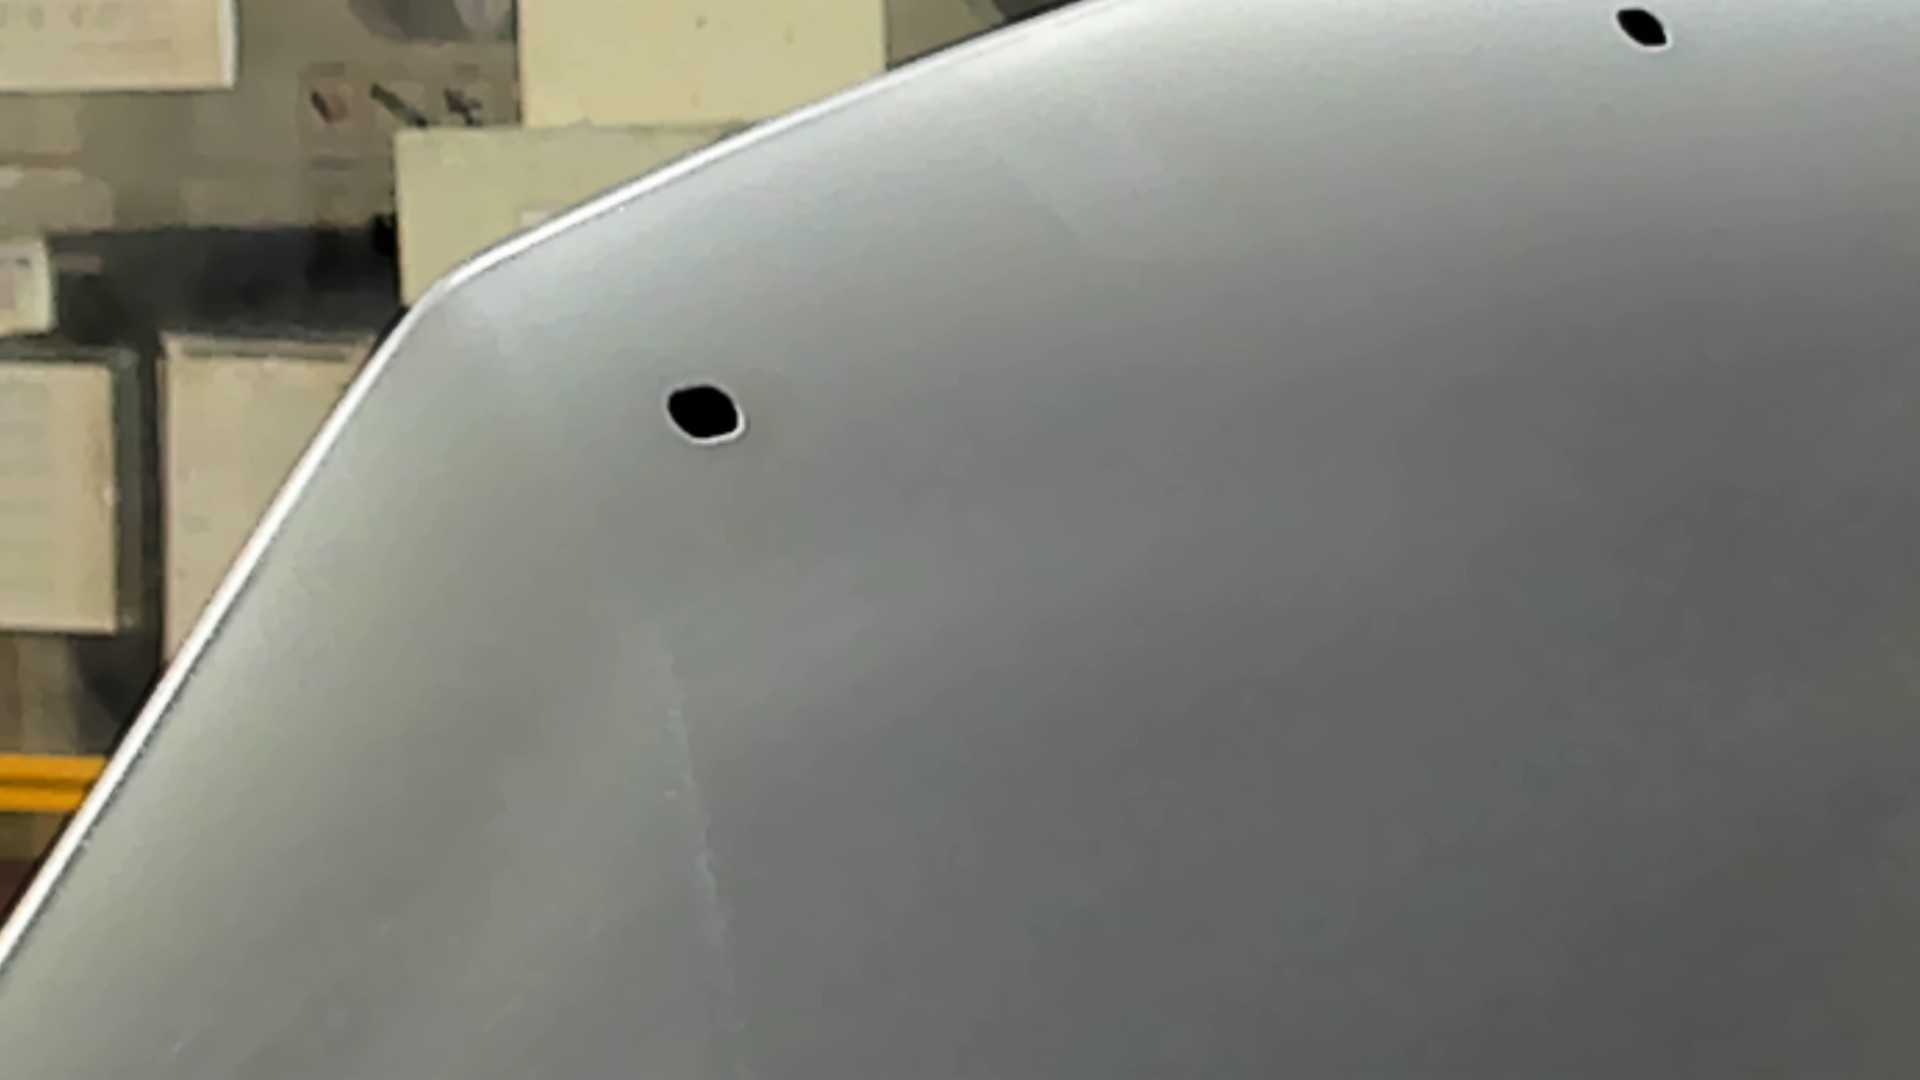amorfo: (659, 376, 748, 454), (1602, 1, 1687, 65)
